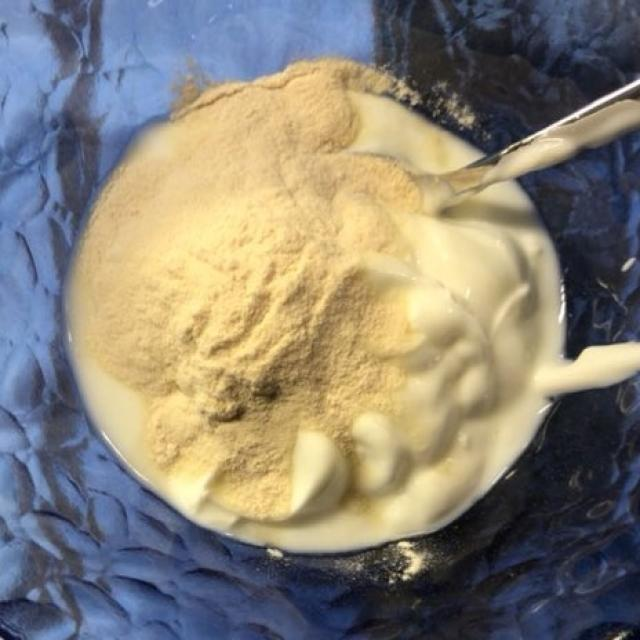yogurt: (63, 66, 576, 548)
